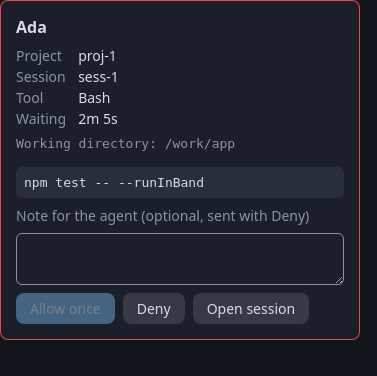
it: ActionCard: Allow once, Deny, Open session › opened: says the session was opened
Click the button "Open session" at [251, 308], box left=193, top=293, right=309, bottom=324
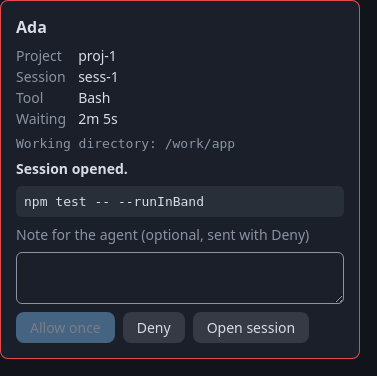
Check: the element with test id "action-card" shows "opened", box left=16, top=159, right=128, bottom=178
